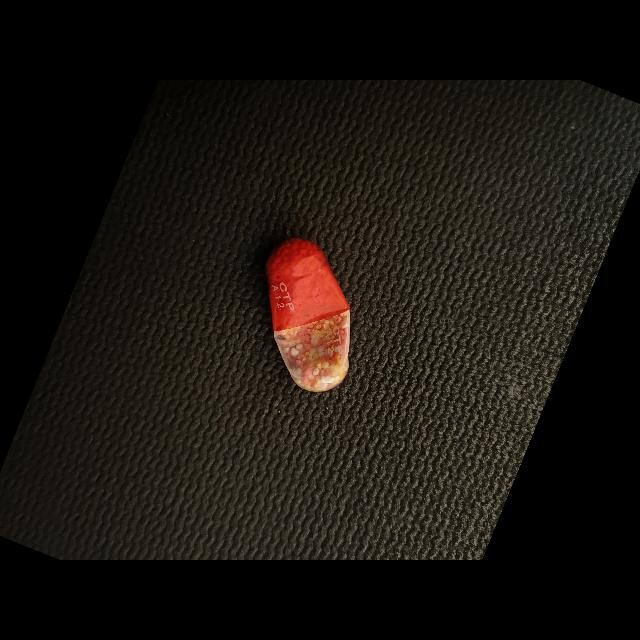Defective Capsule: (266, 238, 350, 392)
